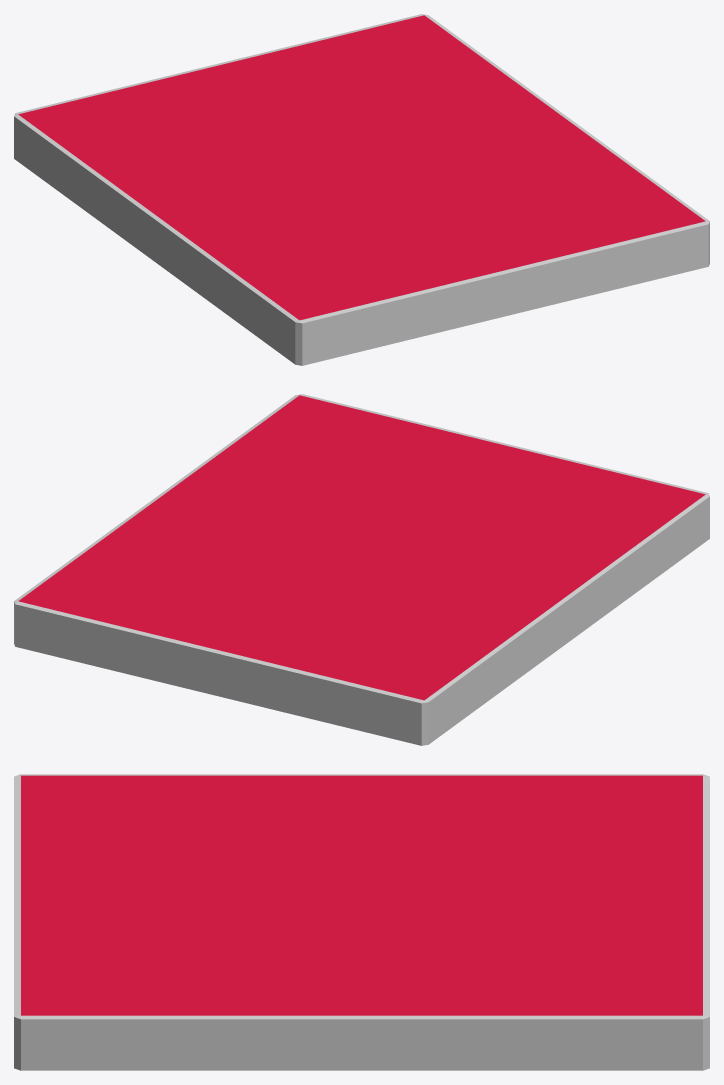
File: questcard.fbx
3 renders of one model, top to bottom at view 1: azimuth 30°, elevation 25°; view 2: azimuth 150°, elevation 25°; view 3: azimuth 270°, elevation 25°, orthographic. The views are drawn at different scales.
Visible parts, largest first — view 1: 立方体; view 2: 立方体; view 3: 立方体.
Part boxes in pixels (left/top/right/bottom): 立方体: left=14, top=14, right=709, bottom=365; 立方体: left=14, top=394, right=709, bottom=745; 立方体: left=14, top=774, right=709, bottom=1070.
Size of the model in its own units: 100 by 10.1 by 120.
